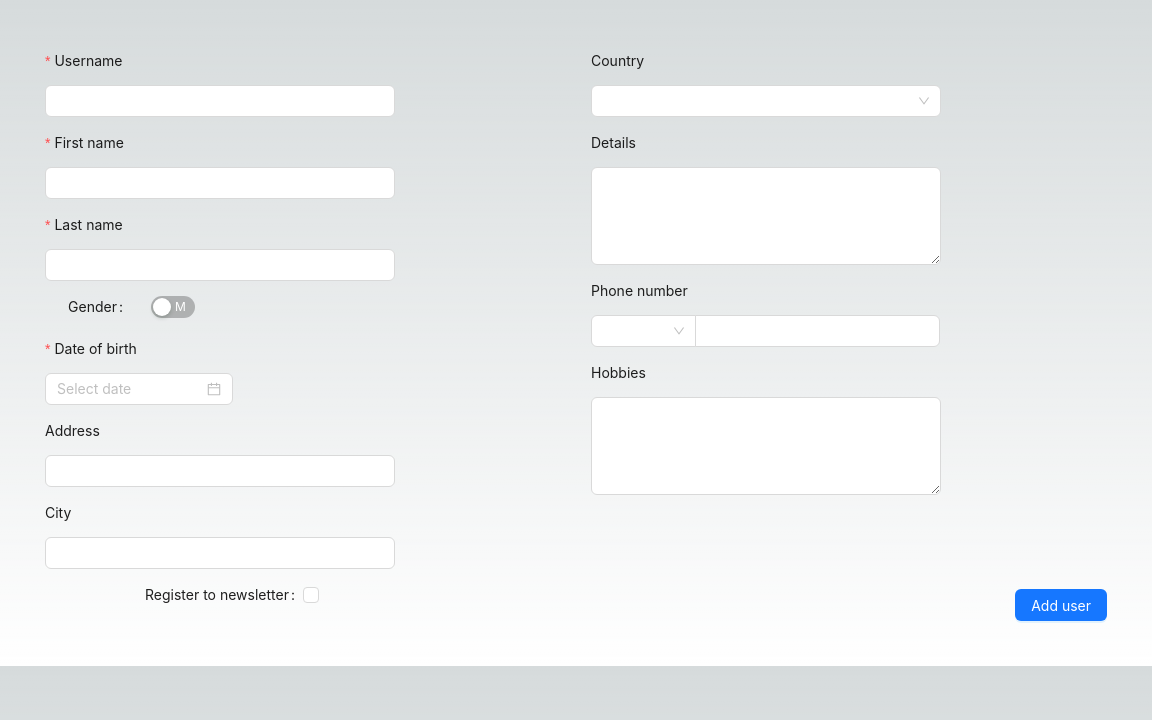
Test case: UserForm component › should validate first name field
Click the button "Add user" at (1061,605), box [1015,589,1107,621]
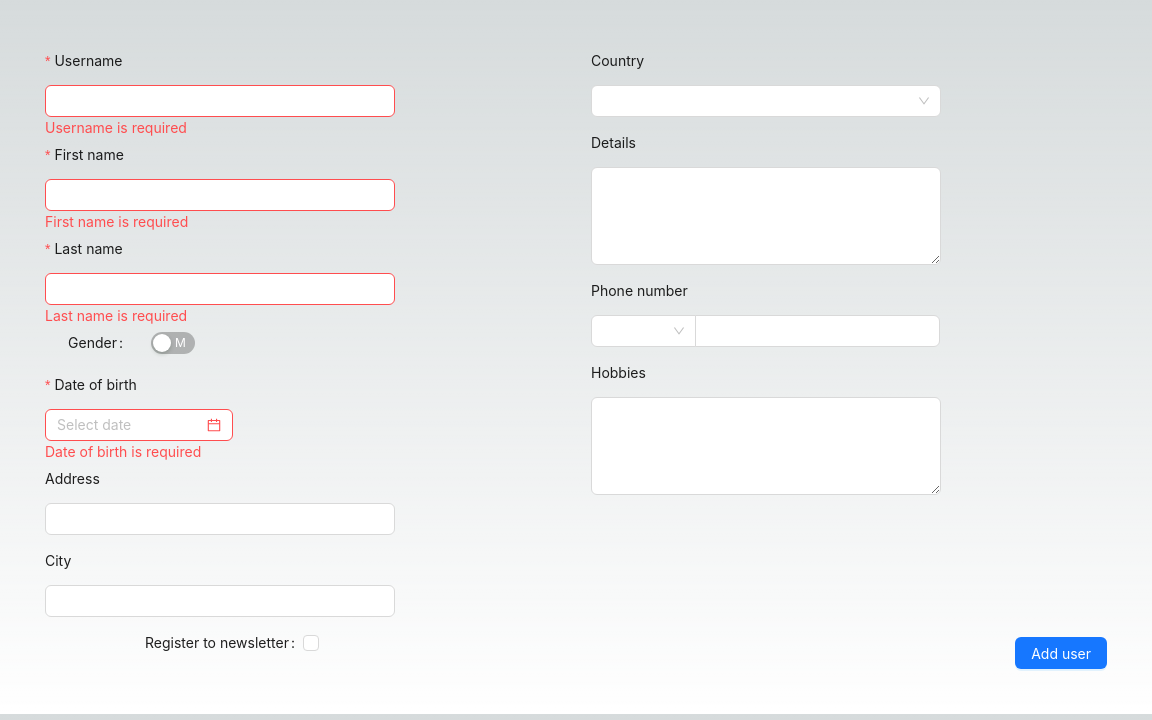
Expected: the text "First name is required" is shown, [45,213,188,230]
Type "L" into the field with test id "first-name-input" at (220,195), box [45,179,395,211]
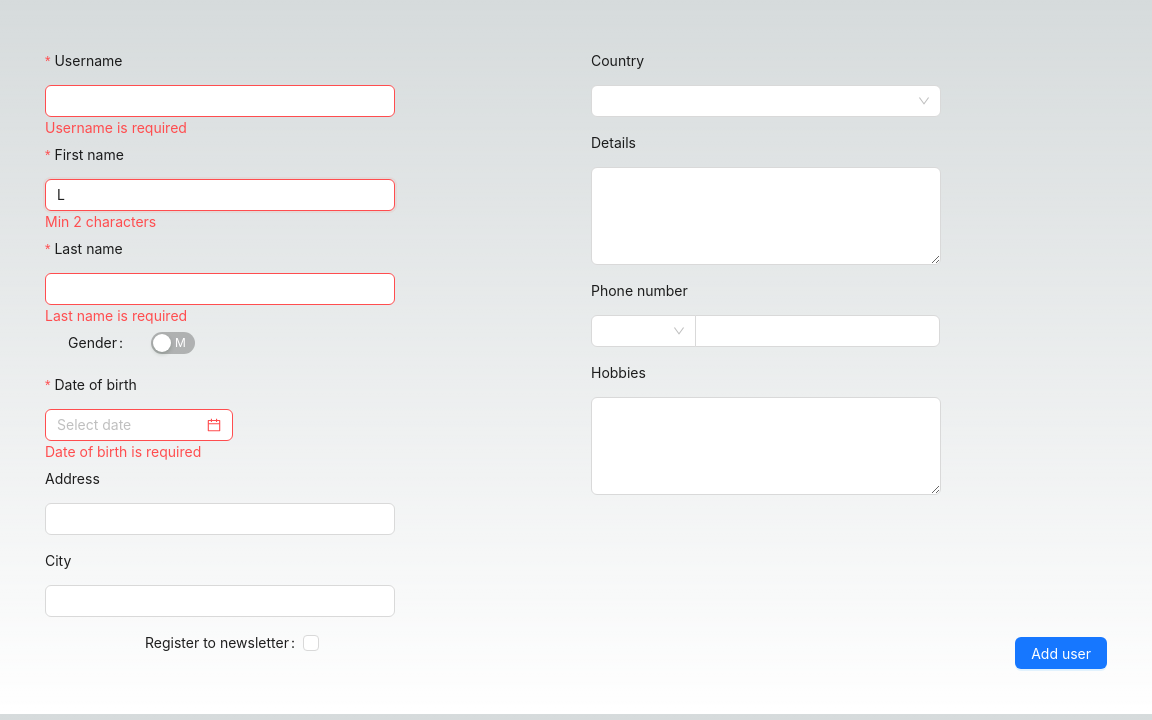
Expected: the text "Min 2 characters" is shown, [45,213,156,230]
Type "av97" into the field with test id "first-name-input" at (220,195), box [45,179,395,211]
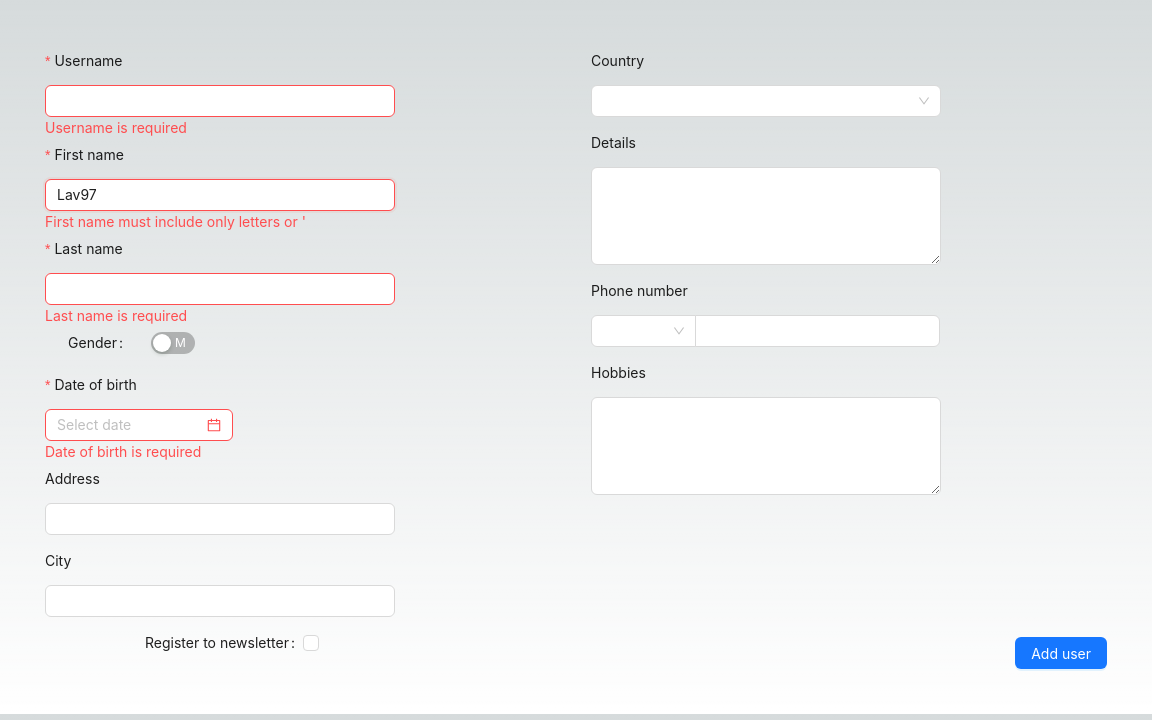
Expected: the field with test id "first-name-input" holds "Lav97", [45,179,395,211]
Expected: the text "First name must include only letters or '" is shown, [45,213,306,230]
